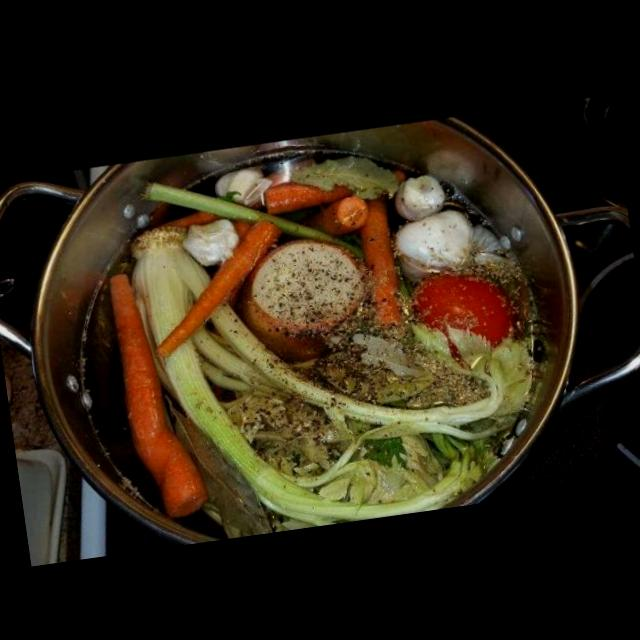vo_rau_cu: (159, 339, 479, 525), (211, 301, 530, 426), (104, 274, 208, 519), (192, 327, 348, 478), (289, 412, 519, 506), (153, 222, 282, 360), (234, 239, 374, 365), (143, 183, 365, 259), (215, 147, 403, 207), (397, 180, 500, 280), (413, 271, 519, 365), (136, 229, 212, 345), (354, 198, 404, 328), (255, 182, 366, 231), (181, 215, 240, 278)
